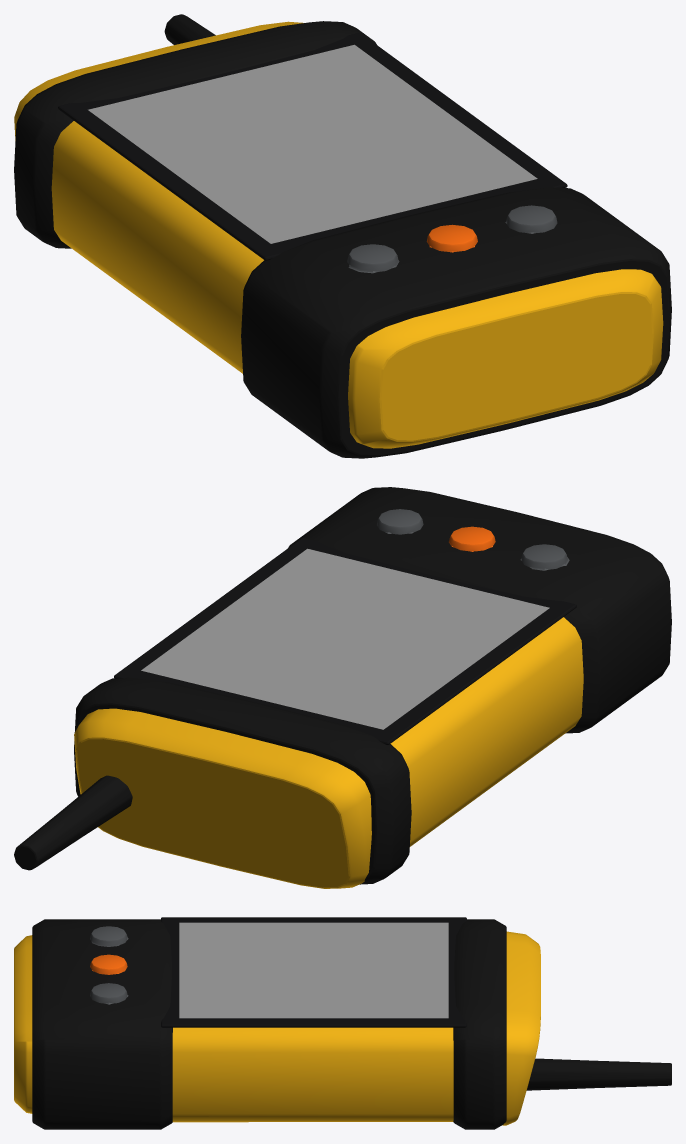
Rendered from survey_scanner.glb.
The picture shows the model from 3 angles, top to bottom: view 1: azimuth 30°, elevation 25°; view 2: azimuth 150°, elevation 25°; view 3: azimuth 270°, elevation 25°; orthographic projection. The views are drawn at different scales.
Parts seen in each view (by area): view 1: survey_scanner; view 2: survey_scanner; view 3: survey_scanner.
Part boxes in pixels (box(x1,y1,x2,y2)): survey_scanner: box(14, 14, 671, 458); survey_scanner: box(14, 487, 671, 888); survey_scanner: box(14, 917, 671, 1129).
Bounding box in the file's own units: 0.0976 × 0.046 × 0.215.
